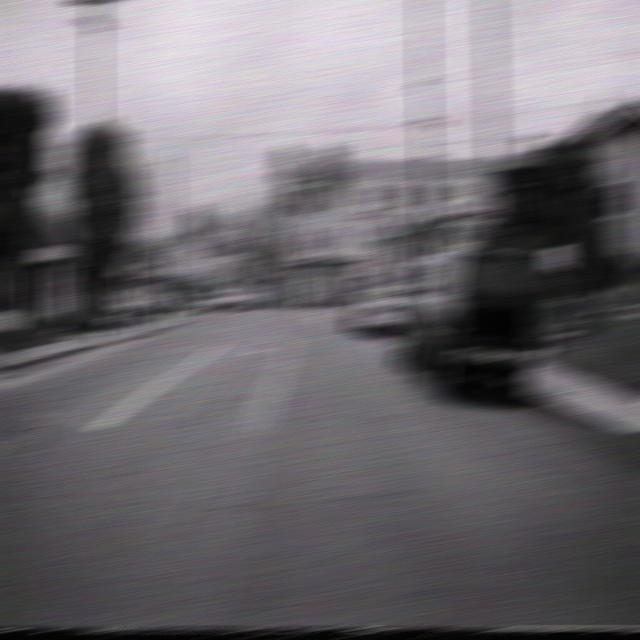pedestrianCrossing: (394, 205, 421, 239)
